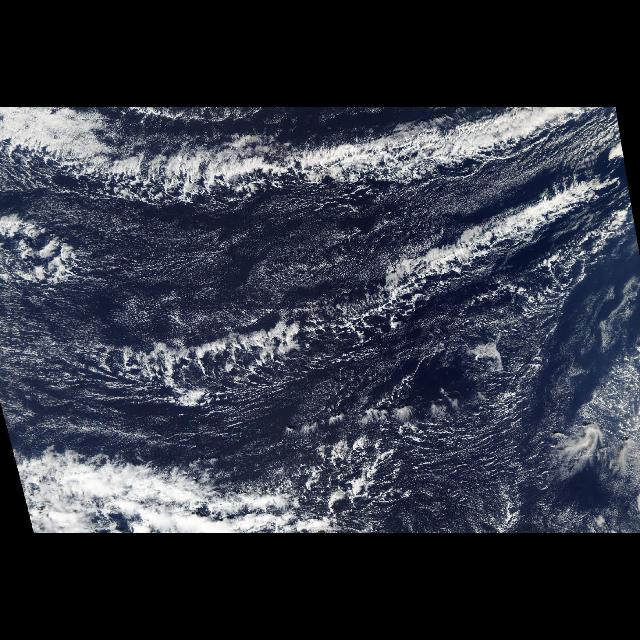Sugar: (0, 200, 354, 456), (424, 305, 636, 531)
